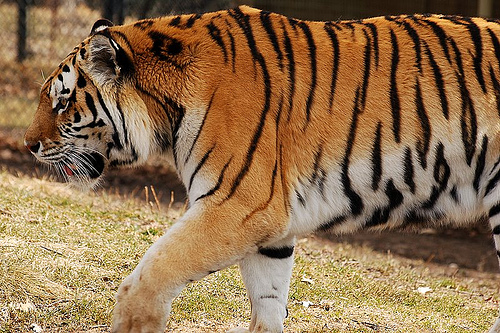Tigre: (17, 12, 481, 284)
